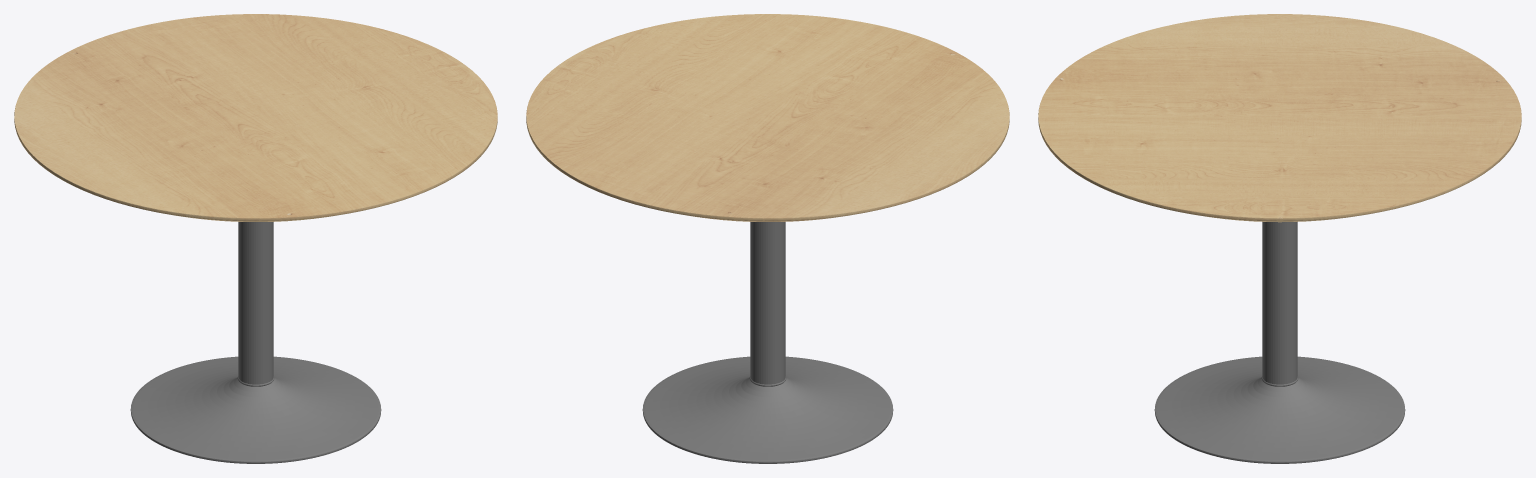
Rendered from round_table.obj.
3 renders of one model, left to right at view 1: azimuth 30°, elevation 25°; view 2: azimuth 150°, elevation 25°; view 3: azimuth 270°, elevation 25°, orthographic.
Visible parts, largest first — view 1: top, leg; view 2: top, leg; view 3: top, leg.
Part boxes in pixels (x1,y1,x2,y2): top: (14, 14, 497, 221); leg: (130, 222, 381, 463); top: (526, 14, 1009, 221); leg: (642, 222, 893, 463); top: (1038, 14, 1521, 222); leg: (1154, 222, 1405, 463).
Size of the model in its own units: 1098 by 740 by 1098.
